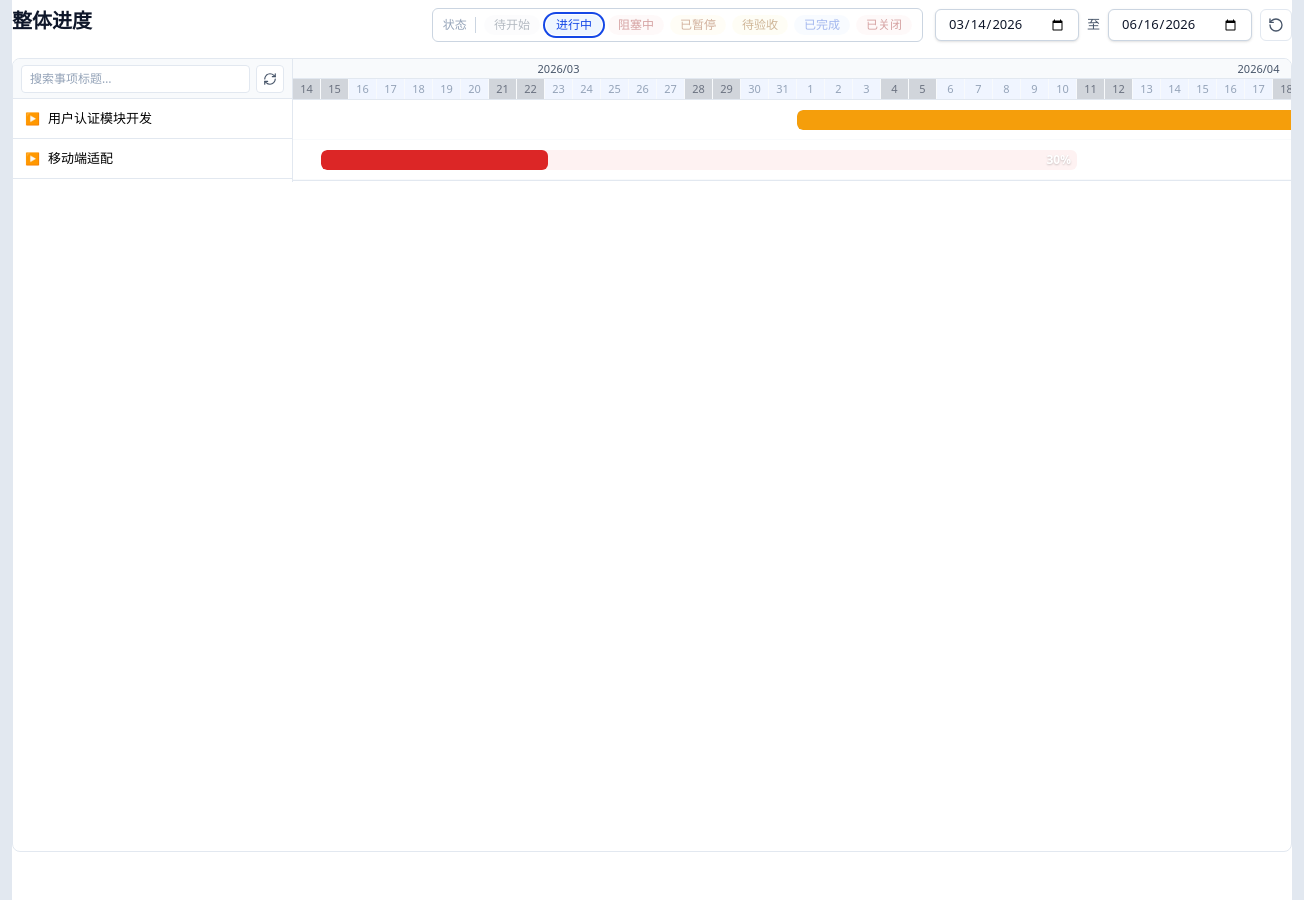
it: GanttViewPage › shows all items when all tags unchecked
The width and height of the screenshot is (1304, 900).
Expected: the text "用户认证模块开发" is shown, left=48, top=109, right=152, bottom=127
// Uncheck the "进行中" tag (the only one selected by default)
Step 1. Click the button with test id "status-filter-progressing" → (574, 25), box left=546, top=15, right=602, bottom=35
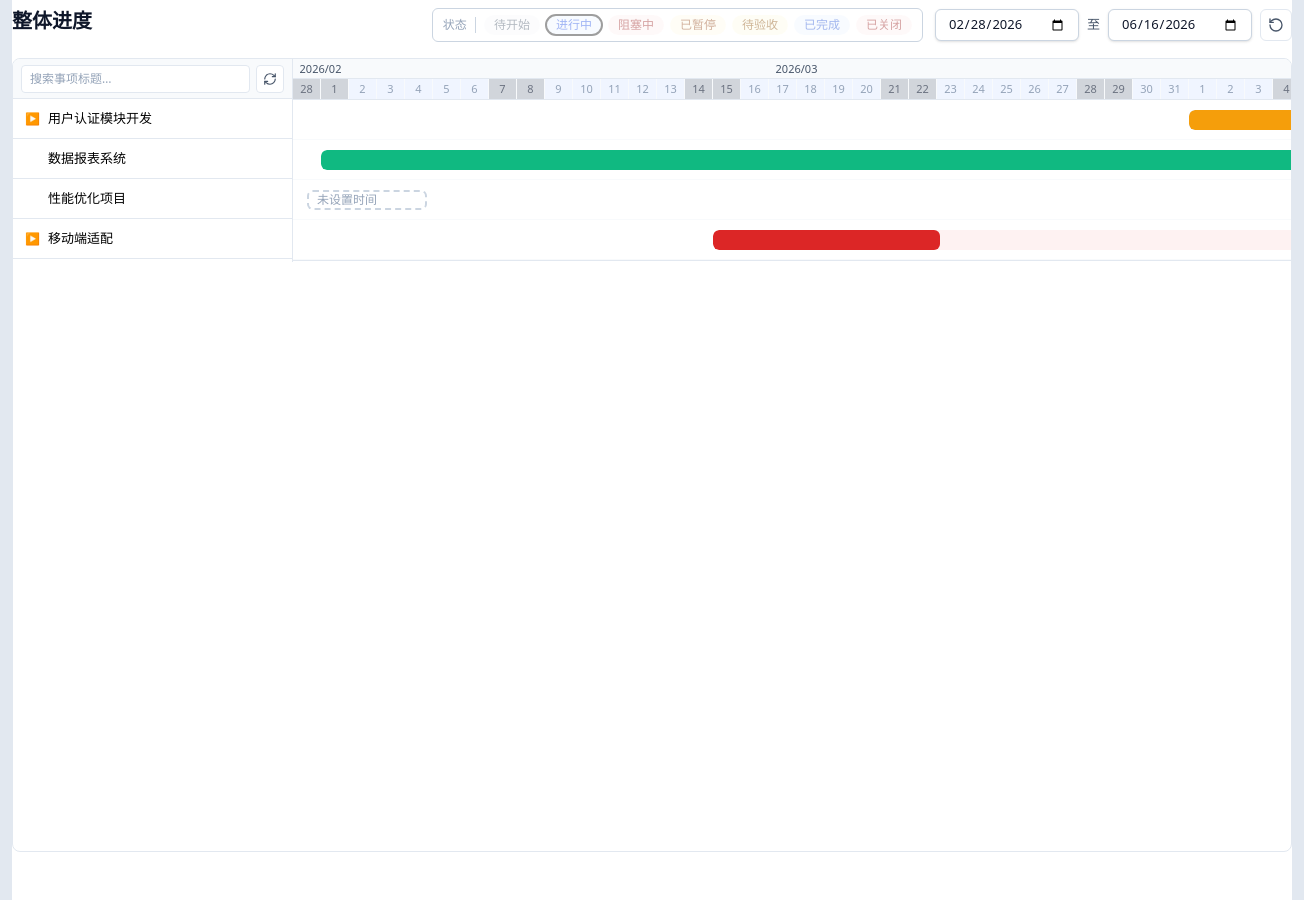
Expected: the text "用户认证模块开发" is shown, left=48, top=109, right=152, bottom=127
Now the text "数据报表系统" is shown, box left=48, top=149, right=126, bottom=167
Now the text "性能优化项目" is shown, box left=48, top=189, right=126, bottom=207
